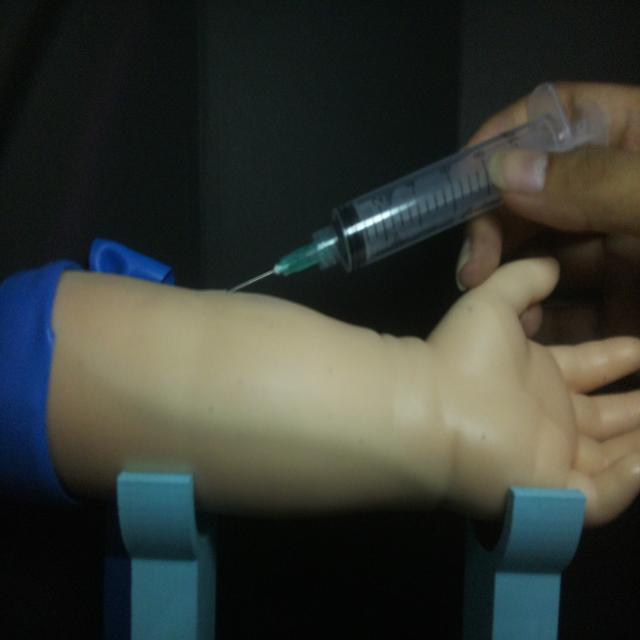21deg: (231, 82, 608, 292)
